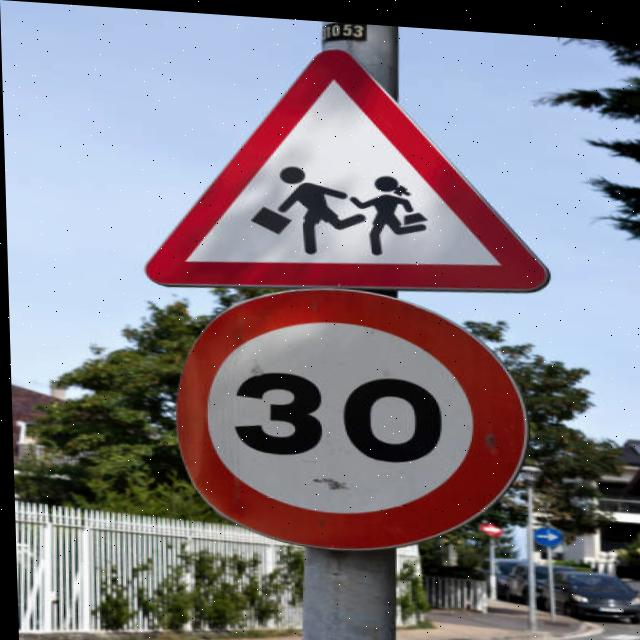Speed limit 30: (169, 274, 532, 557)
